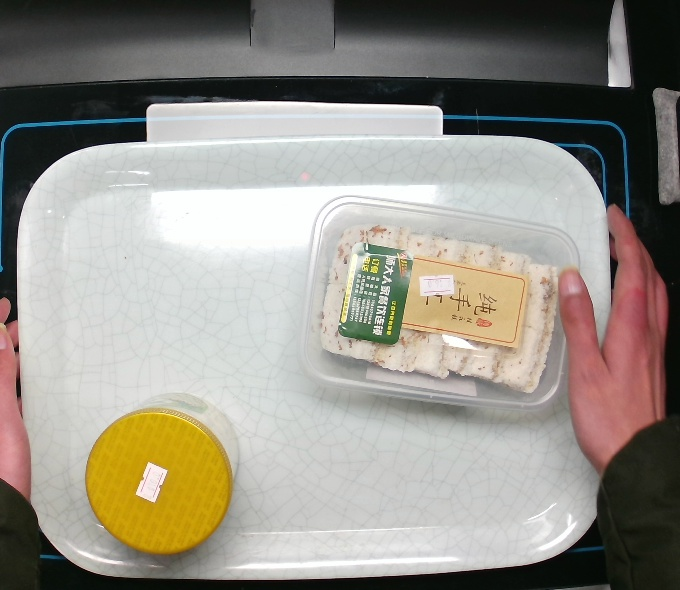wcq-GuiHuaGao: (295, 191, 581, 413)
wcq-MaiYaTang: (84, 391, 242, 557)
